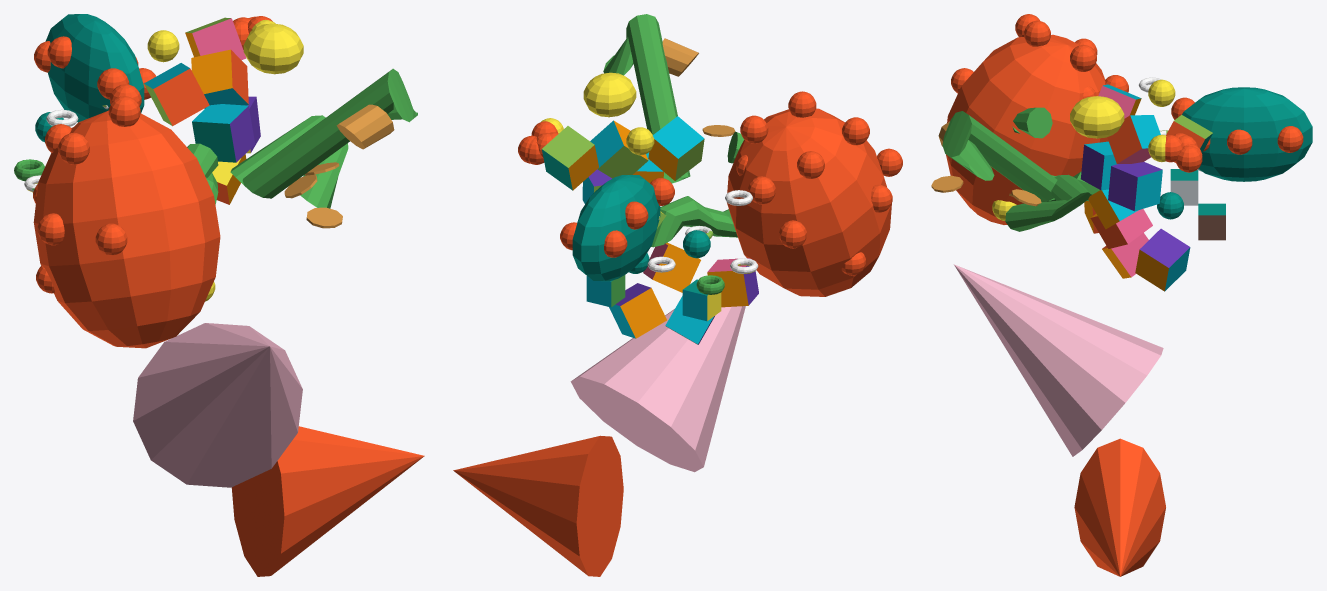
3 views of the same model, side by side, from view 1: azimuth 30°, elevation 25°; view 2: azimuth 150°, elevation 25°; view 3: azimuth 270°, elevation 25° (orthographic). The views are drawn at different scales.
Visible parts, largest first — view 1: mesh_1657443693, mesh_476834699, mesh_1967788229, group_1390389913, mesh_1092404993, mesh_111838111, mesh_535652982, mesh_2017788717, mesh_668332386, mesh_286598453, group_328952804, mesh_869049234 (+9 smaller); view 2: mesh_1657443693, mesh_476834699, mesh_1967788229, mesh_1092404993, group_1390389913, mesh_286598453, mesh_2017788717, group_687308667, mesh_787166954, mesh_535652982, mesh_668332386, mesh_1336629650 (+14 smaller); view 3: mesh_476834699, mesh_1657443693, mesh_1967788229, mesh_1092404993, group_1390389913, mesh_787166954, mesh_976401816, mesh_668332386, mesh_535652982, mesh_111838111, mesh_2118163147, mesh_718946691 (+13 smaller).
Part boxes in pixels (x1,y1,x2,y2): mesh_1657443693: (33,110,220,348); mesh_476834699: (133,323,302,487); mesh_1967788229: (231,426,424,576); group_1390389913: (230,68,417,208); mesh_1092404993: (45,14,144,122); mesh_111838111: (192,104,255,162); mesh_535652982: (191,49,248,108); mesh_2017788717: (144,63,209,126); mesh_668332386: (243,23,303,74); mesh_286598453: (185,17,246,60); group_328952804: (336,104,394,149); mesh_869049234: (212,154,246,204); mesh_1657443693: (727,108,891,296); mesh_476834699: (570,306,745,472); mesh_1967788229: (453,435,623,576); mesh_1092404993: (572,175,660,281); group_1390389913: (603,14,690,183); mesh_286598453: (541,126,598,190); mesh_2017788717: (648,116,704,180); group_687308667: (651,196,737,247); mesh_787166954: (609,283,666,338); mesh_535652982: (590,120,648,178); mesh_668332386: (583,72,636,117); mesh_1336629650: (707,258,758,307); mesh_476834699: (954,264,1163,456); mesh_1657443693: (946,34,1108,224); mesh_1967788229: (1074,438,1165,576); mesh_1092404993: (1182,87,1312,181); group_1390389913: (942,111,1090,231); mesh_787166954: (1135,228,1190,291); mesh_976401816: (1108,162,1162,211); mesh_668332386: (1070,96,1124,138); mesh_535652982: (1107,115,1160,163); mesh_111838111: (1080,141,1117,190); mesh_2118163147: (1090,209,1152,248); mesh_718946691: (1198,203,1225,240).
Size of the model in its own units: 95 by 116 by 83.09.
